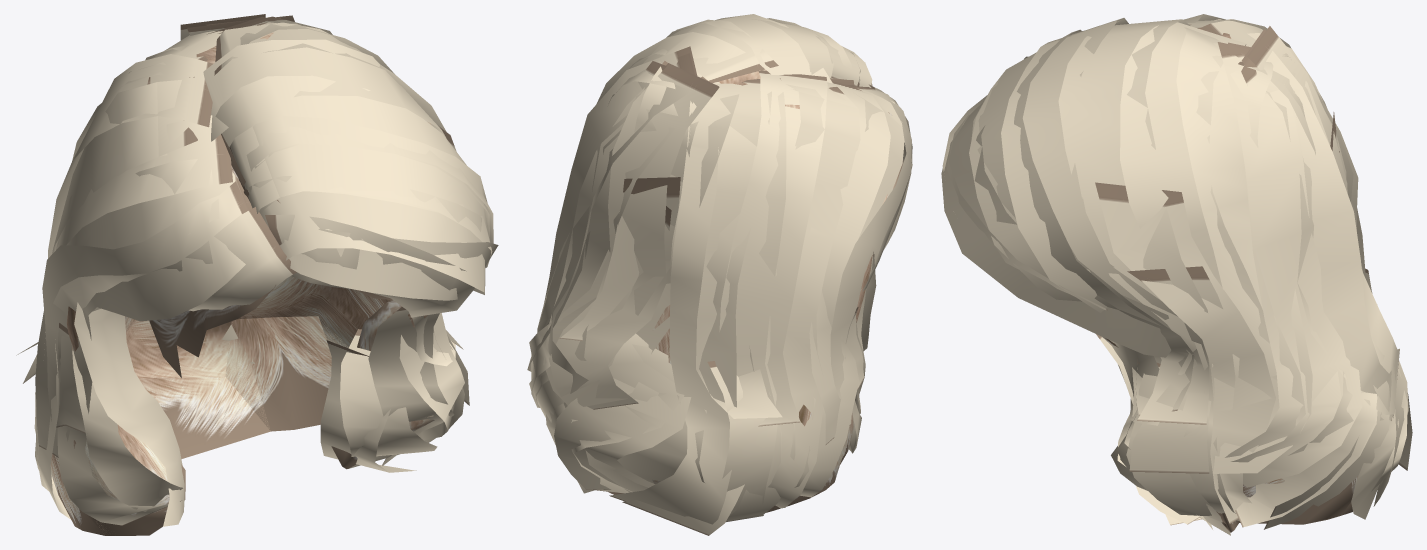
The model's file is hair_006.obj.
The picture shows the model from 3 angles, left to right: view 1: azimuth 30°, elevation 25°; view 2: azimuth 150°, elevation 25°; view 3: azimuth 270°, elevation 25°; orthographic projection. The views are drawn at different scales.
Bounding box in the file's own units: 23.1 × 29.23 × 26.91.
